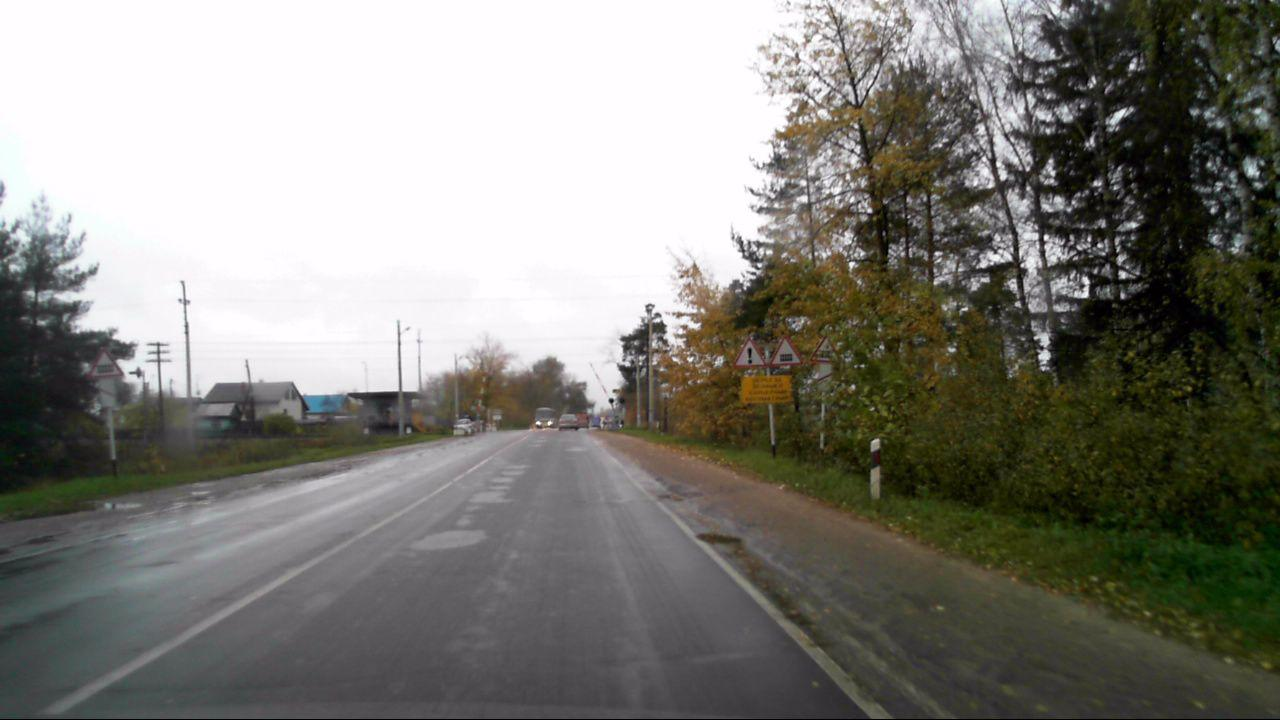1_1: (88, 349, 125, 379), (771, 335, 805, 367), (809, 333, 842, 364)
1_33: (733, 336, 766, 369)
1_4_3: (818, 364, 833, 391)
1_4_6: (100, 378, 117, 408)
